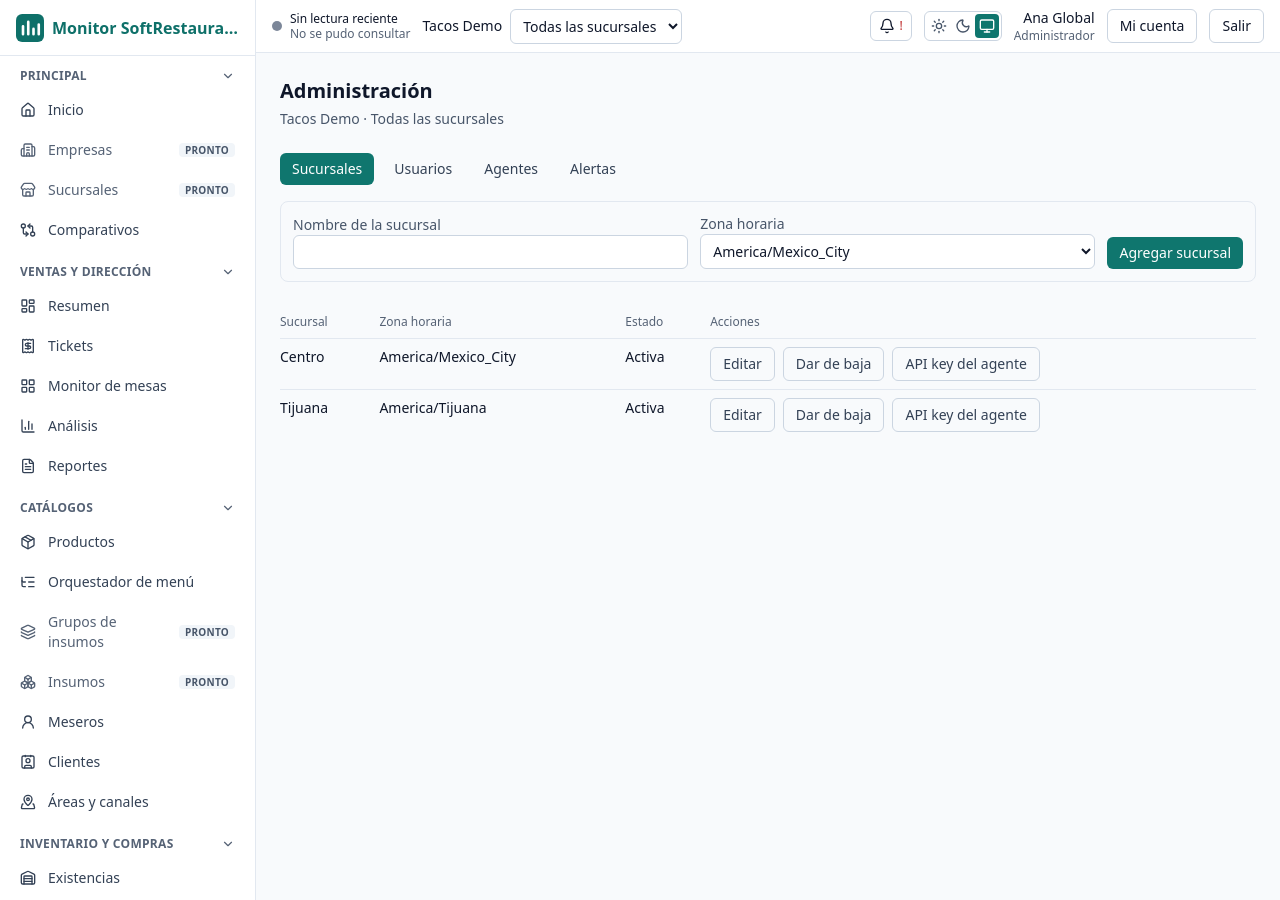
Test: Sucursales › editar: sólo manda lo que cambió y avisa que cambiar la zona mueve el histórico
The width and height of the screenshot is (1280, 900).
Click the button "Editar" in the row of "Centro" at (743, 364), box [710,347,775,381]
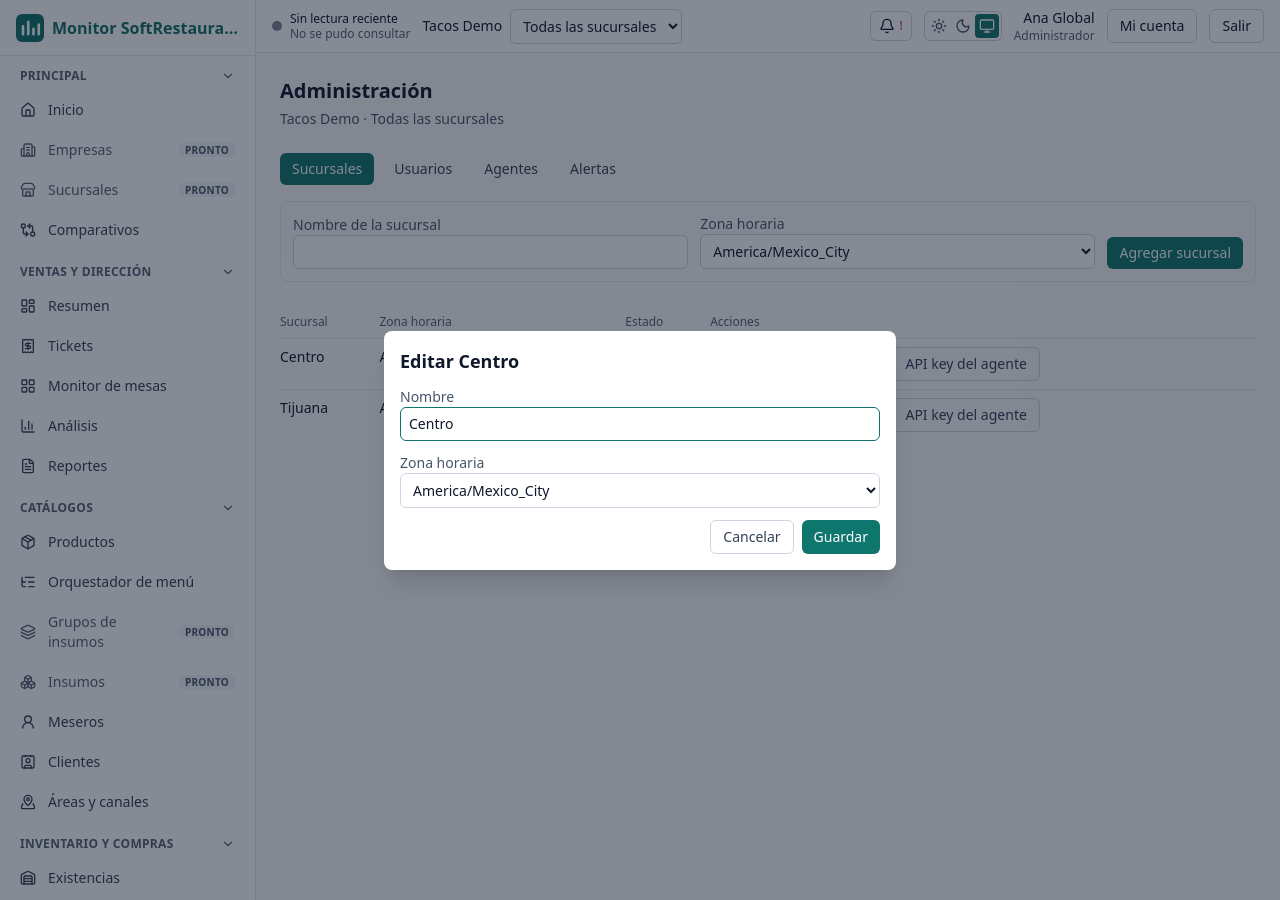
Select "America/Merida" in the dropdown labelled "Zona horaria" at (640, 490), box [400,472,880,508]
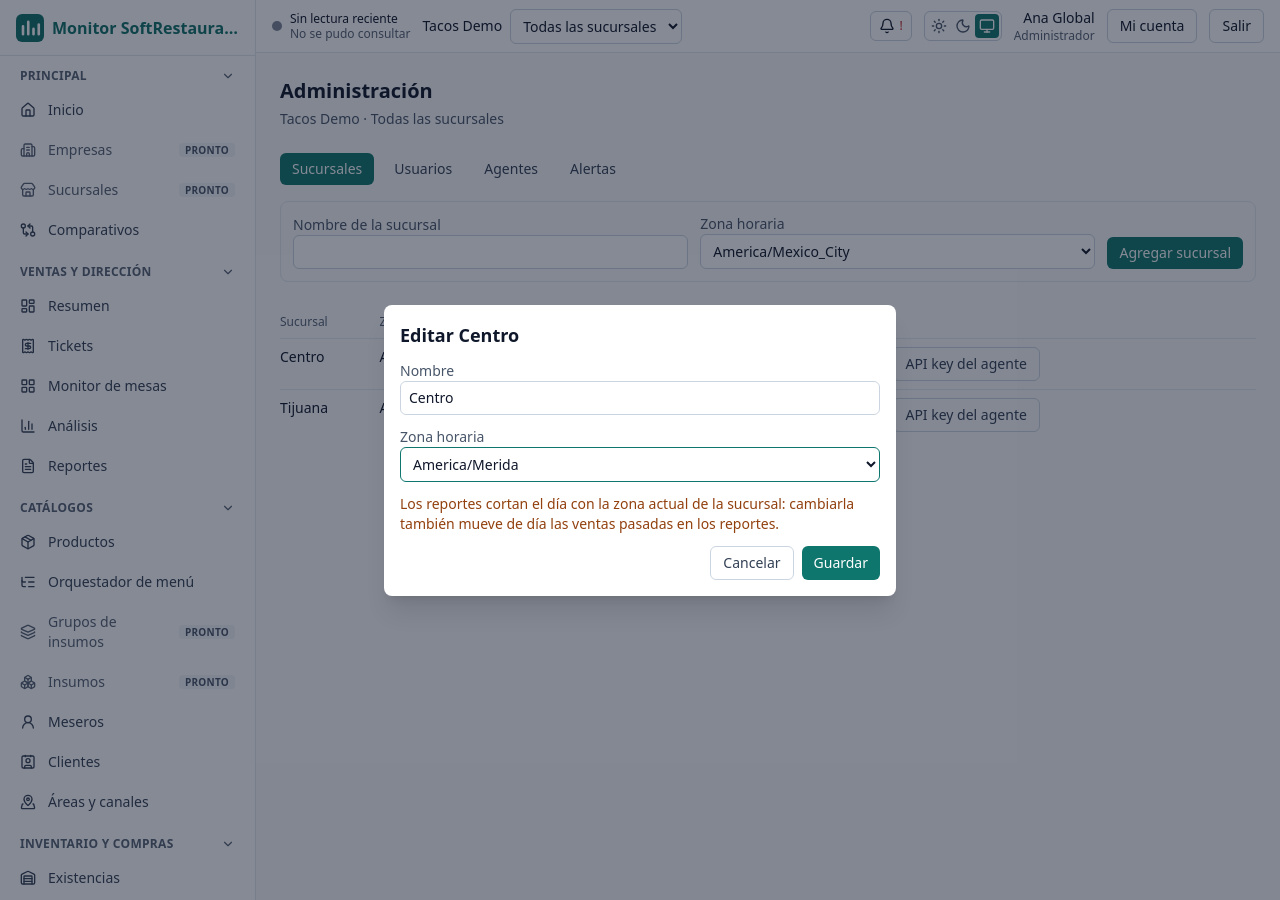
Now the text "mueve de día las ventas pasadas" is shown, box [400,494,854,532]
Click the button "Guardar" at (841, 562), box [802,546,880,580]
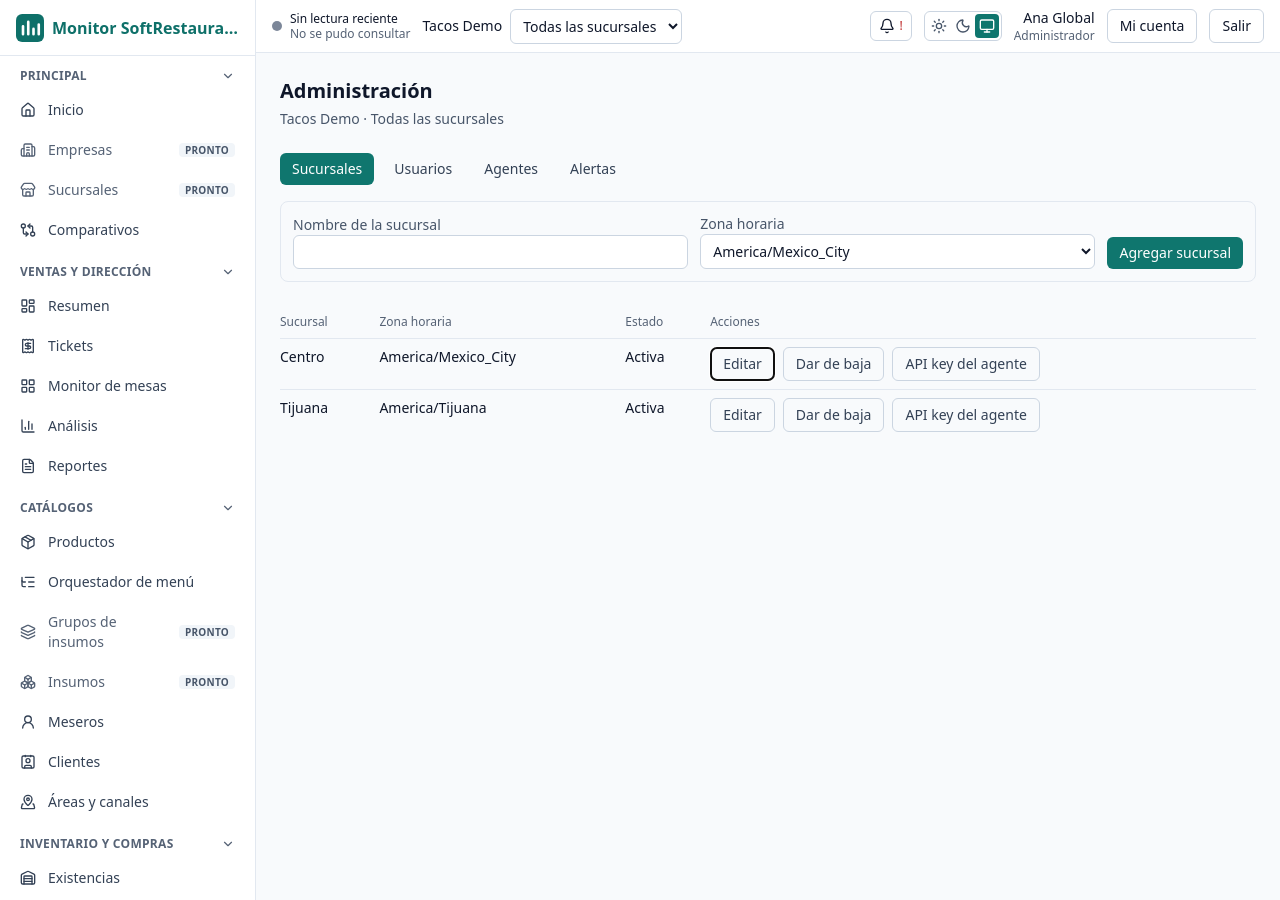
Now the dialog is gone
